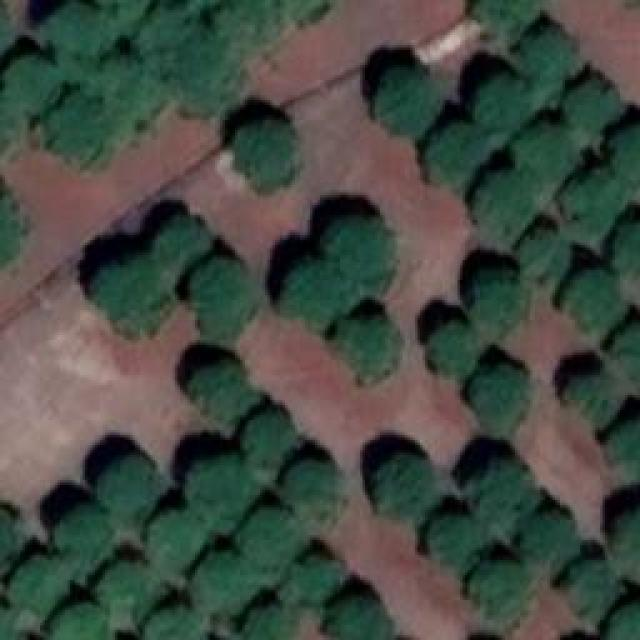Tree: (93, 253, 175, 329), (369, 66, 450, 140), (330, 313, 402, 391), (275, 263, 351, 332), (188, 260, 259, 333), (234, 118, 303, 193), (320, 218, 393, 288), (467, 560, 536, 631), (165, 42, 237, 109), (240, 508, 309, 577), (467, 358, 534, 429), (523, 23, 586, 98), (370, 447, 440, 512), (188, 452, 254, 520), (473, 167, 536, 236), (50, 2, 116, 67), (97, 557, 161, 624), (47, 93, 115, 156), (98, 55, 160, 124), (512, 220, 579, 282), (55, 500, 118, 563), (468, 265, 528, 331), (475, 465, 540, 525), (190, 358, 252, 420), (560, 360, 621, 423), (0, 55, 60, 119), (425, 505, 485, 569), (425, 123, 490, 182), (10, 552, 67, 619), (507, 123, 573, 180), (285, 464, 348, 522), (150, 508, 206, 571), (565, 167, 616, 235), (150, 210, 213, 265), (525, 512, 578, 577), (472, 74, 532, 131), (570, 70, 636, 119), (205, 0, 282, 42), (198, 558, 253, 615), (288, 558, 344, 613), (568, 268, 618, 329), (245, 408, 299, 464), (602, 508, 640, 583), (135, 603, 206, 640), (325, 595, 383, 640), (50, 600, 115, 640), (240, 595, 298, 639), (98, 455, 152, 502), (570, 563, 613, 621), (430, 325, 482, 372), (475, 0, 532, 42), (603, 325, 640, 385), (603, 420, 640, 480), (605, 210, 640, 268), (140, 0, 187, 42), (610, 123, 640, 188), (0, 505, 18, 580), (612, 607, 639, 640)
